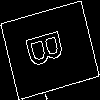B: (25, 25, 73, 70)
